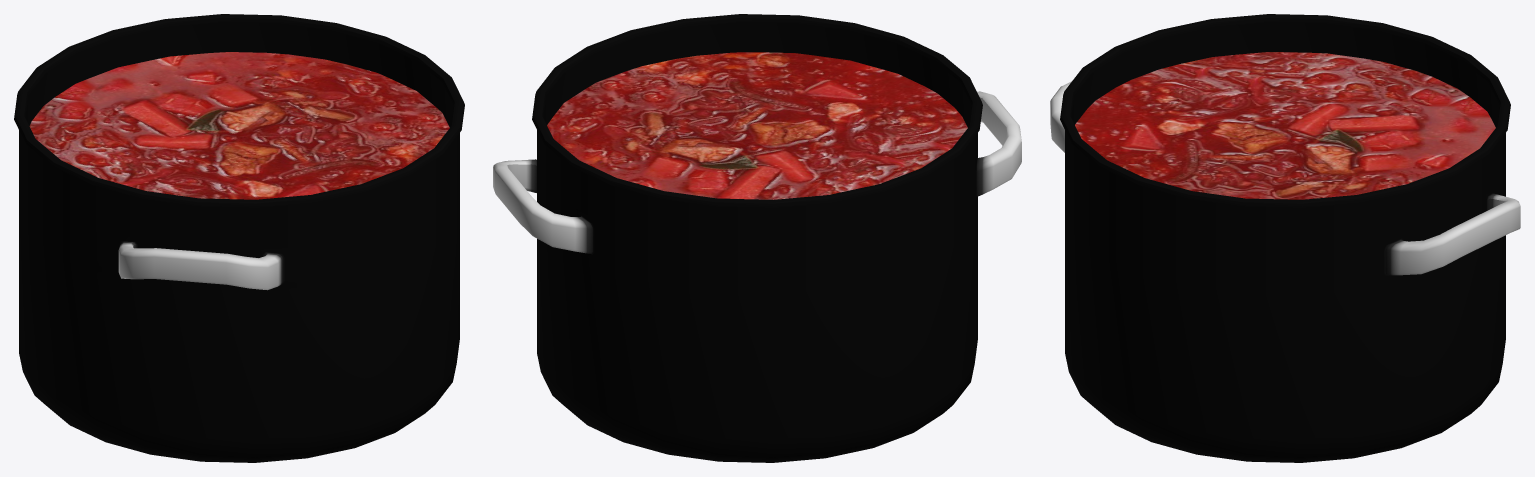
Rendered from Pan_Of_Borshch.fbx.
The picture shows the model from 3 angles, left to right: view 1: azimuth 30°, elevation 25°; view 2: azimuth 150°, elevation 25°; view 3: azimuth 270°, elevation 25°; orthographic projection.
Visible parts, largest first — view 1: low001, Circle003; view 2: low001, Circle003; view 3: low001, Circle003.
Part boxes in pixels (x1,y1,x2,y2): low001: (14,14,464,462); Circle003: (29,52,449,199); low001: (493,14,1021,462); Circle003: (547,52,967,199); low001: (1050,14,1520,462); Circle003: (1075,52,1495,199).
Size of the model in its own units: 30.6 by 20.39 by 31.93.
